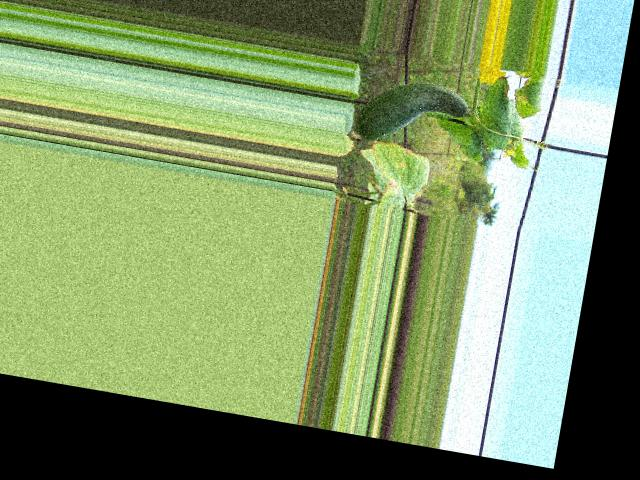cucumber: (352, 72, 472, 156)
